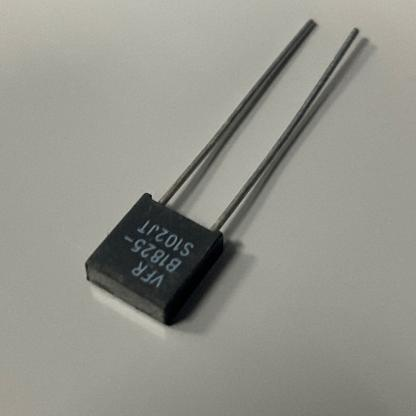SP0000007: (57, 0, 416, 355)
